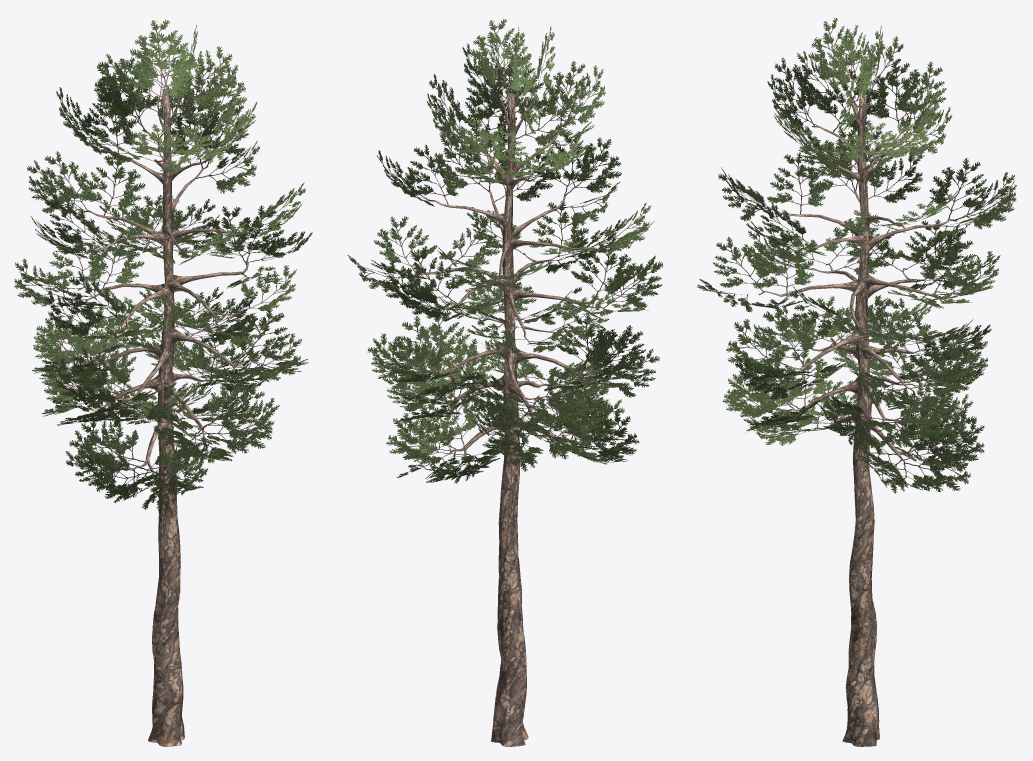
File: tree_pine.glb
3 renders of one model, left to right at view 1: azimuth 30°, elevation 25°; view 2: azimuth 150°, elevation 25°; view 3: azimuth 270°, elevation 25°, orthographic.
Parts seen in each view (by area): view 1: m; view 2: m; view 3: m.
Boxes of the visible parts, x1,y1,x2,y2 form: m: (14, 19, 312, 746); m: (347, 19, 662, 746); m: (697, 18, 1016, 746).
Bounding box in the file's own units: 0.4107 × 1 × 0.4076.
2 materials, 2 textured.
